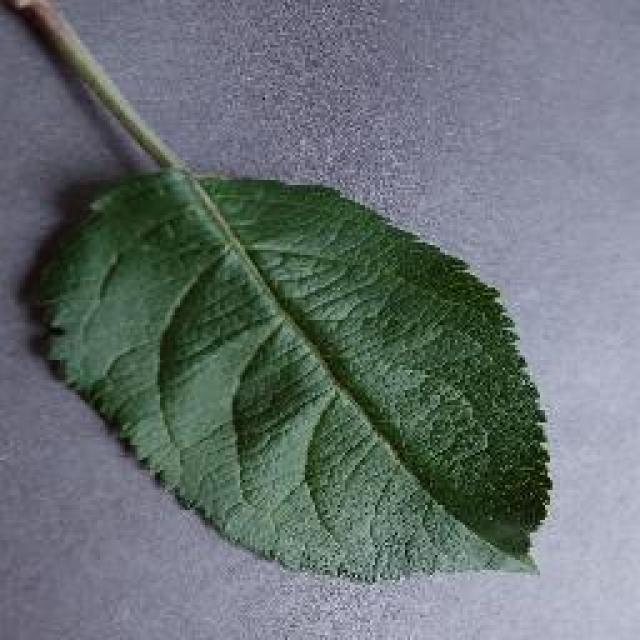apple healthy: (0, 0, 555, 585)
